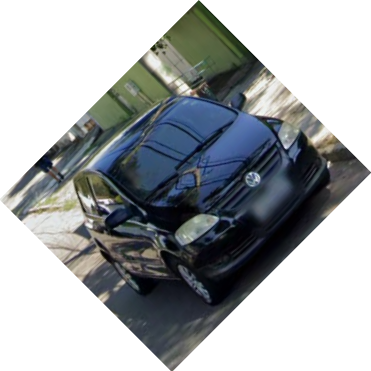car: (73, 95, 330, 306)
